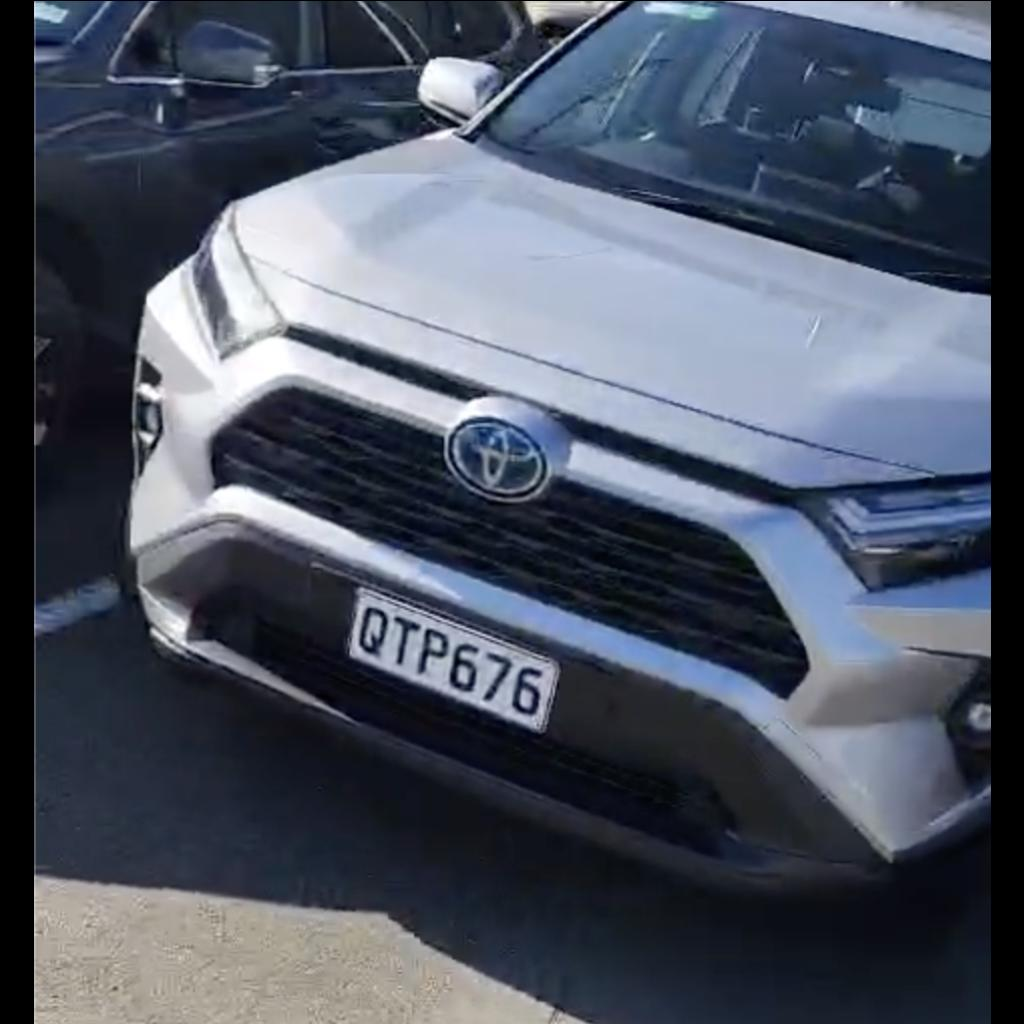Number-Plates: (334, 582, 570, 744)
